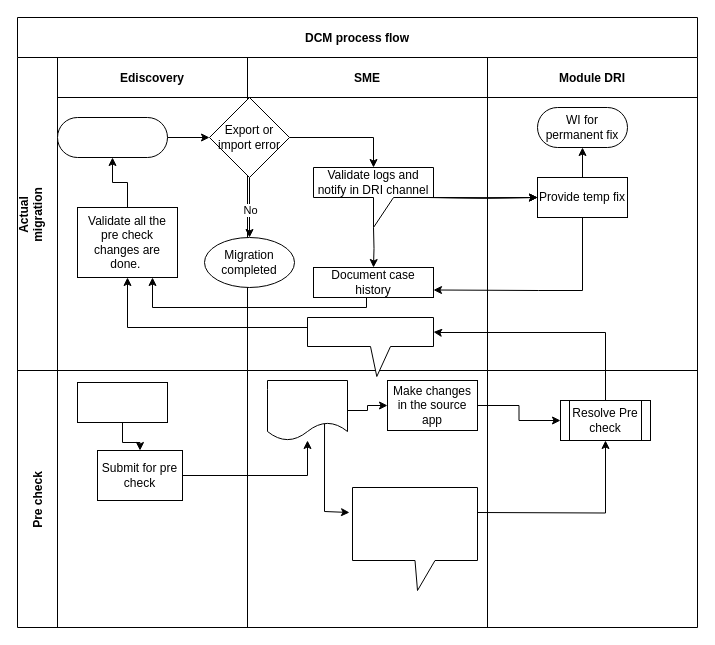
Some shapes in this 715 by 645 pixel diagram are drawn without their labels. Each missing label, with the centre of its shape:
"Check for migration prerequisites" belongs at pixel 122 402.
"Identify module issue and notify it to DRI Channel" belongs at pixel 415 538.
"Initiate migration" belongs at pixel 112 137.
"Notify in DCM channel" belongs at pixel 370 346.
"Try migrating with the mock tool" belongs at pixel 307 410.
